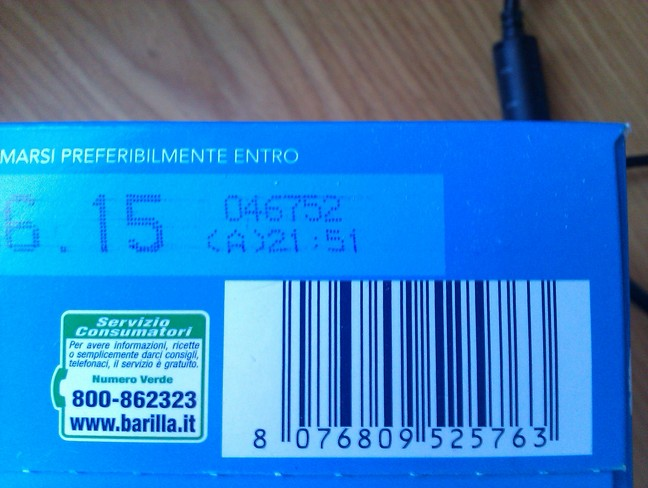detection: (224, 281, 590, 455)
